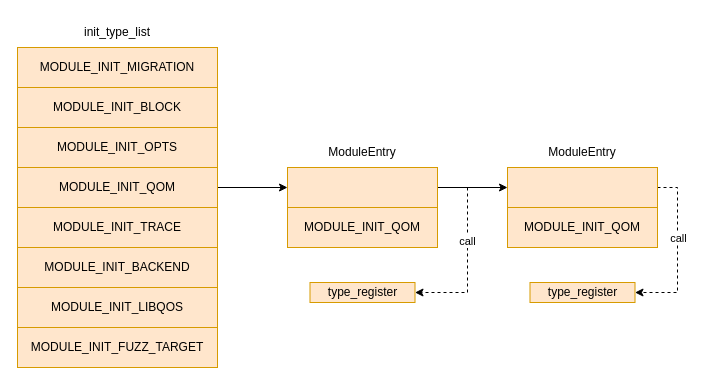
Some shapes in this 704 by 385 pixel diagram are drawn without their labels. The shapes that lost their labels are listed below. From the top down, each one's centre as x and y in pixels, then its label:
At (362,187): "e1000_register_types".
At (582,187): "pc_dimm_register_types".
